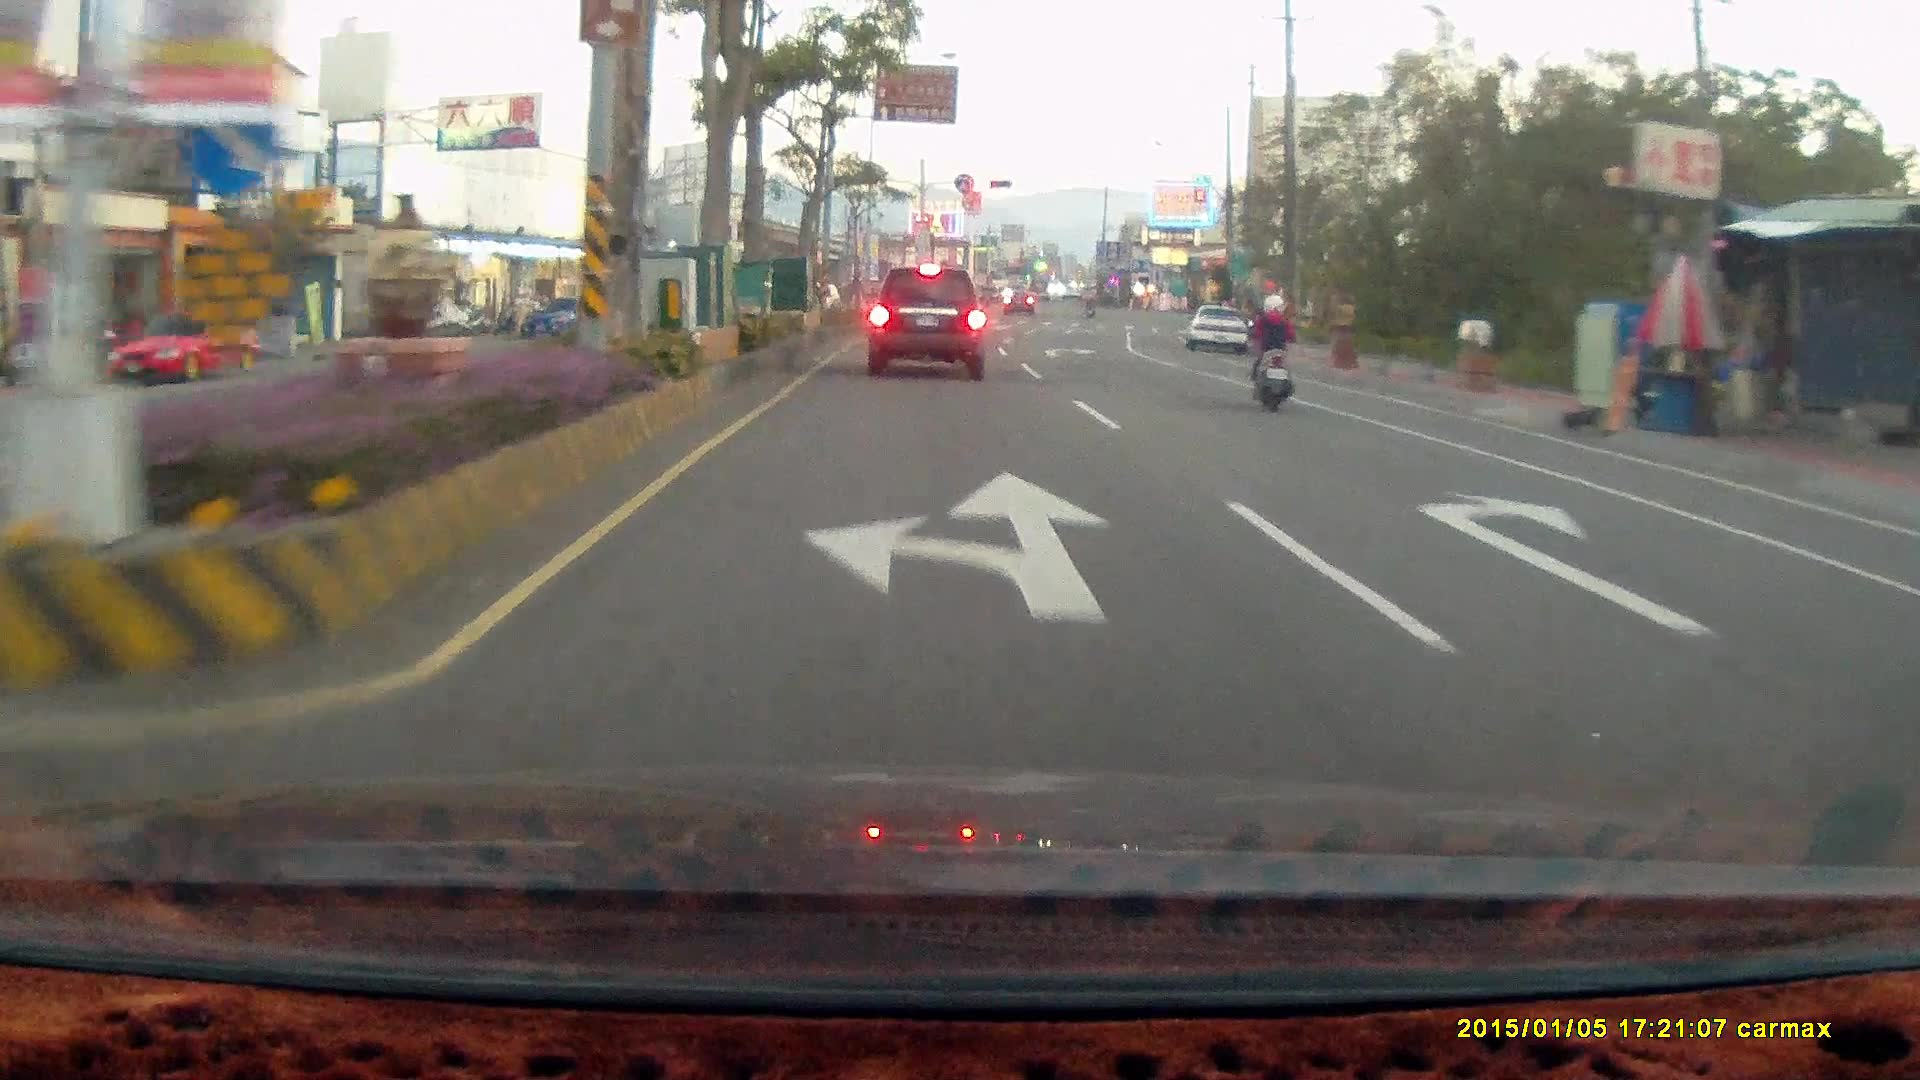rider: (1244, 291, 1298, 415)
vehicle: (867, 265, 982, 380), (111, 304, 260, 382), (1896, 493, 1920, 836), (1883, 528, 1920, 690), (373, 300, 480, 351), (1185, 305, 1248, 358), (1184, 303, 1248, 355)
